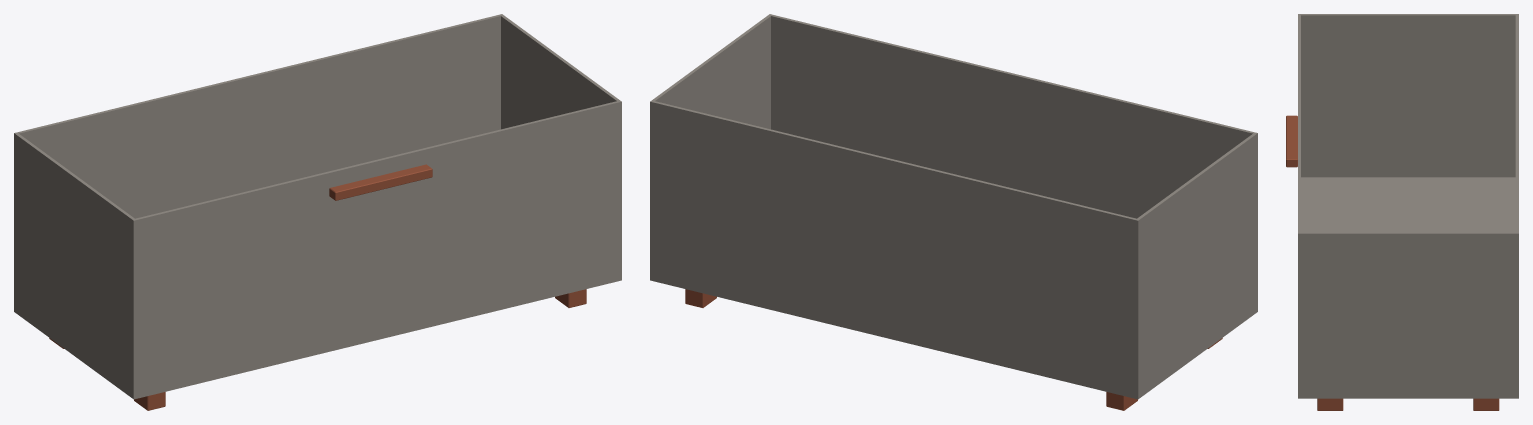
File: metal_shelving_rollout_crate_crate.glb
The picture shows the model from 3 angles, left to right: view 1: azimuth 30°, elevation 25°; view 2: azimuth 150°, elevation 25°; view 3: azimuth 270°, elevation 25°; orthographic projection. The views are drawn at different scales.
Visible parts, largest first — view 1: metal_shelving_rollout_crate_crate.001; view 2: metal_shelving_rollout_crate_crate.001; view 3: metal_shelving_rollout_crate_crate.001.
Boxes of the visible parts, <box> form: metal_shelving_rollout_crate_crate.001: <box>14,14,621,410</box>; metal_shelving_rollout_crate_crate.001: <box>650,14,1257,410</box>; metal_shelving_rollout_crate_crate.001: <box>1286,14,1518,410</box>.
Bounding box in the file's own units: 0.8 × 0.32 × 0.358.
